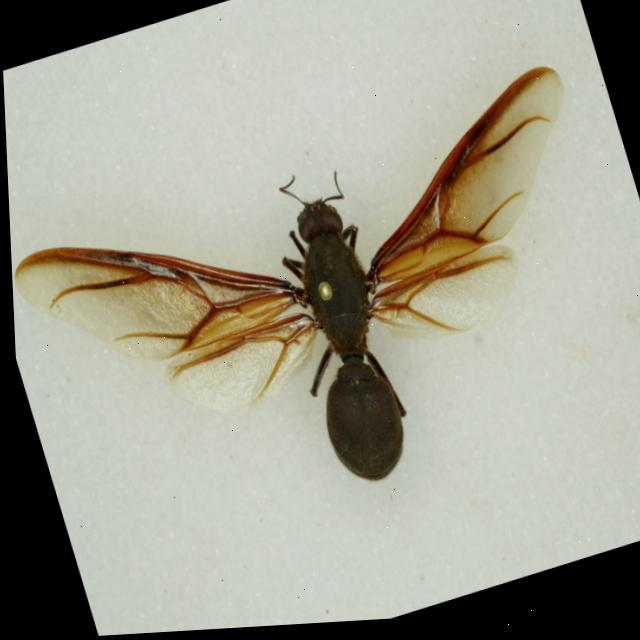Dead-Female-Alate: (3, 62, 640, 573)
